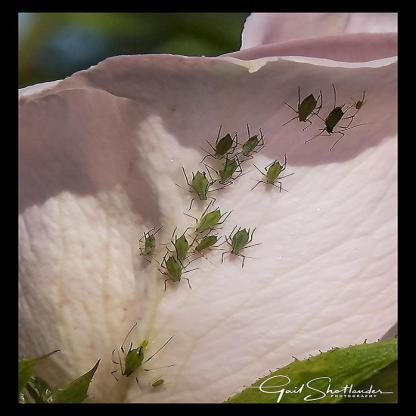aphid: (106, 329, 172, 383), (316, 85, 353, 148), (282, 85, 326, 130), (174, 166, 224, 204), (249, 154, 294, 194), (184, 202, 233, 237), (219, 225, 262, 264), (152, 254, 196, 291), (199, 124, 237, 163), (211, 154, 250, 190), (232, 124, 266, 162), (166, 230, 200, 262), (133, 226, 164, 260), (191, 231, 224, 257), (140, 372, 174, 393), (351, 90, 370, 112)
